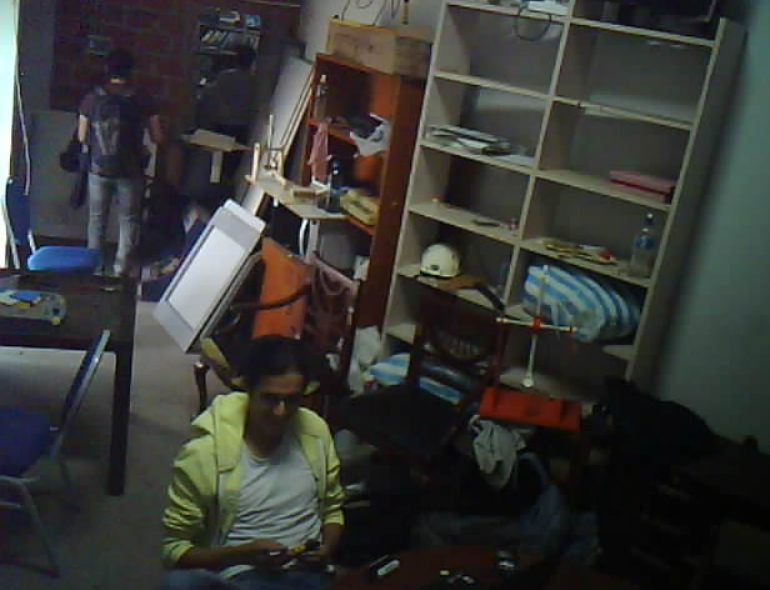person: (139, 320, 361, 590), (43, 34, 155, 299), (179, 10, 289, 164)
